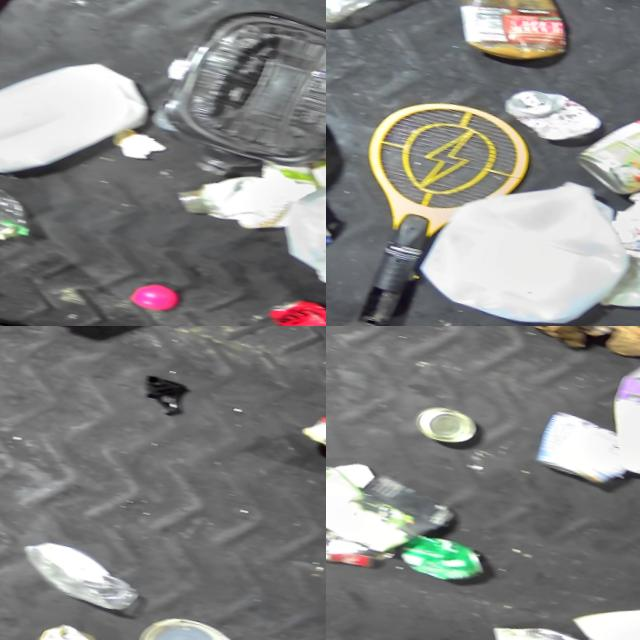can: (534, 409, 640, 496), (501, 82, 604, 153), (573, 108, 640, 217), (400, 530, 501, 594), (484, 616, 609, 640), (26, 615, 126, 640), (268, 291, 326, 326)
milk_jug: (407, 152, 639, 326), (0, 25, 169, 206), (280, 155, 326, 311), (595, 351, 640, 496), (282, 403, 326, 507)
plastic_bottle: (326, 0, 462, 55)
